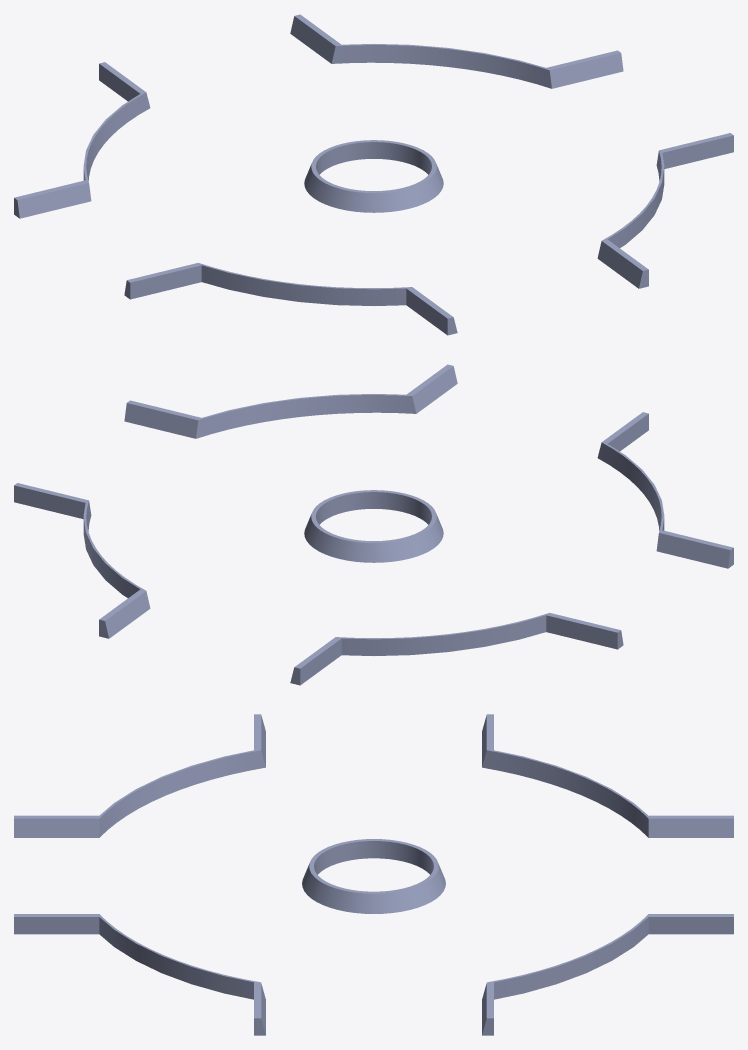
Rendered from road-roundabout-barrier.glb.
3 renders of one model, top to bottom at view 1: azimuth 30°, elevation 25°; view 2: azimuth 150°, elevation 25°; view 3: azimuth 270°, elevation 25°, orthographic. The views are drawn at different scales.
Visible parts, largest first — view 1: road-roundabout-barrier; view 2: road-roundabout-barrier; view 3: road-roundabout-barrier.
Boxes of the visible parts, left/top/right/bottom form: road-roundabout-barrier: left=14, top=14, right=733, bottom=335; road-roundabout-barrier: left=14, top=364, right=733, bottom=685; road-roundabout-barrier: left=14, top=714, right=733, bottom=1035.
Size of the model in its own units: 3 by 0.0798 by 3.
1 material, 1 textured.
